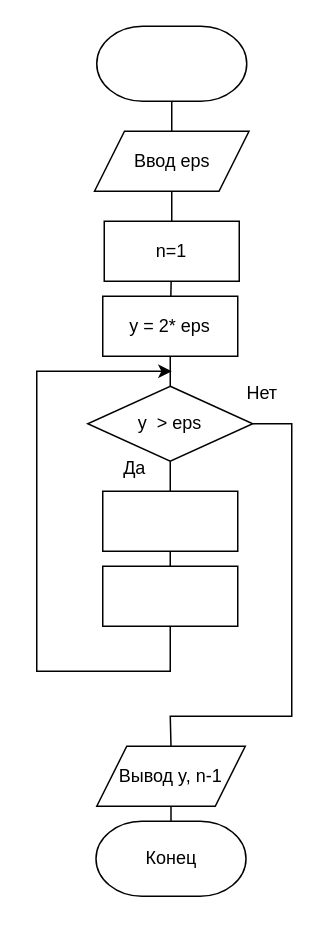
The diagram is 320 pixels wide and 938 high, and some of its shapes have lost their labels. The box of each missing label's shape, as (x1, y1, x2, y2) in pixels:
n++: (101, 565, 238, 626)
y=(n+10)/ n 3: (101, 490, 238, 551)
Начало: (95, 25, 247, 101)
